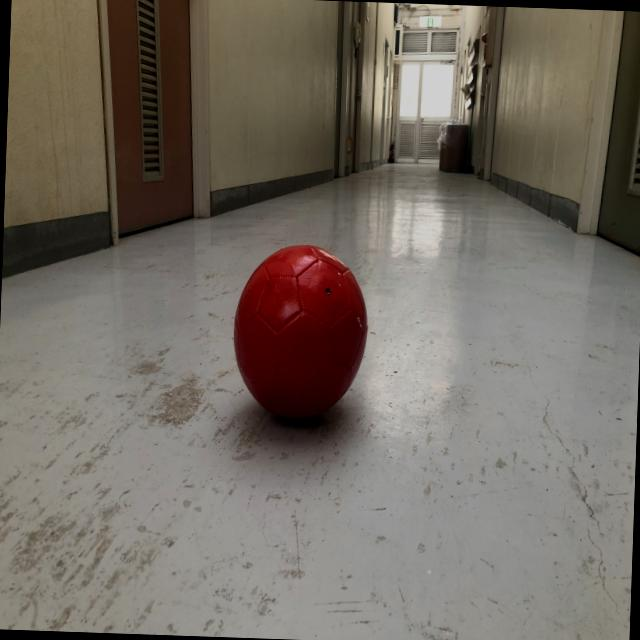red_ball: (231, 242, 371, 426)
